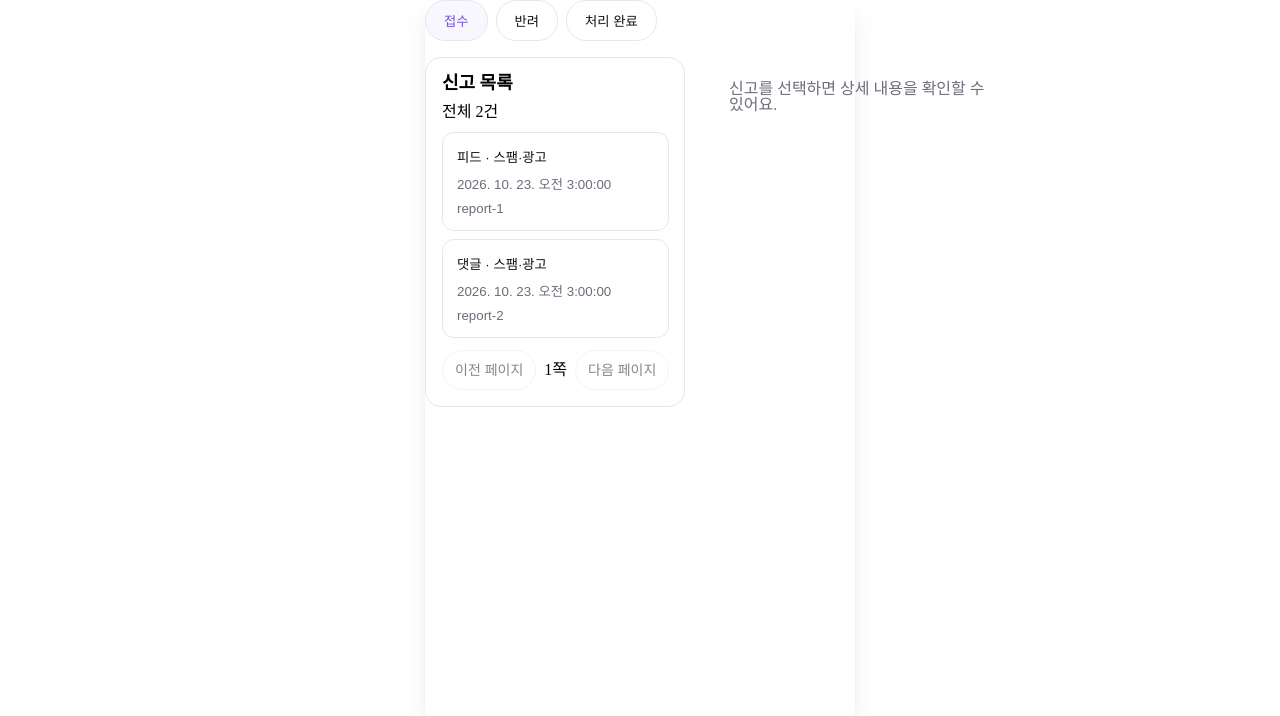
Test: 관리자 신고 심사 › 연결된 숨김 상태를 확인하고 사유와 함께 종결한 신고는 다시 변경하지 않는다
Click the button with aria-label "피드 신고 report-1": x=556, y=182 [442,132,669,231]
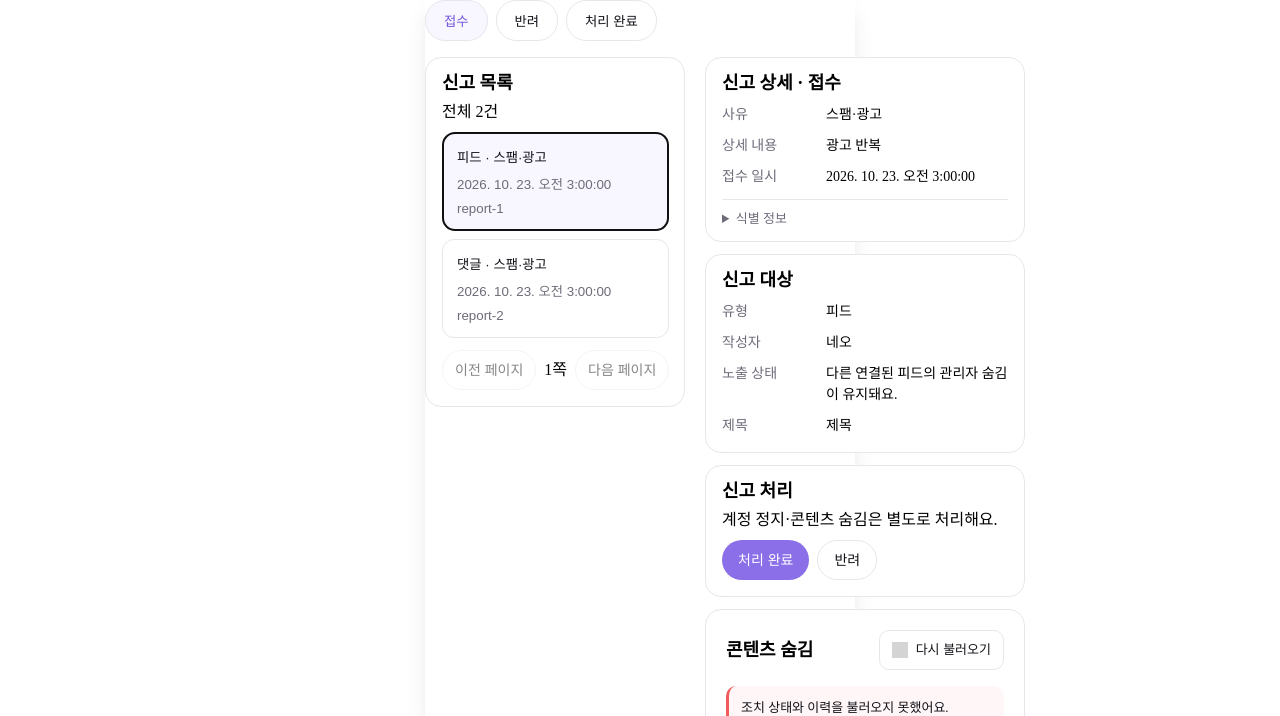
Click the button "처리 완료" below "계정 정지·콘텐츠 숨김은 별도로 처리해요.": x=766, y=560 [722,540,809,580]
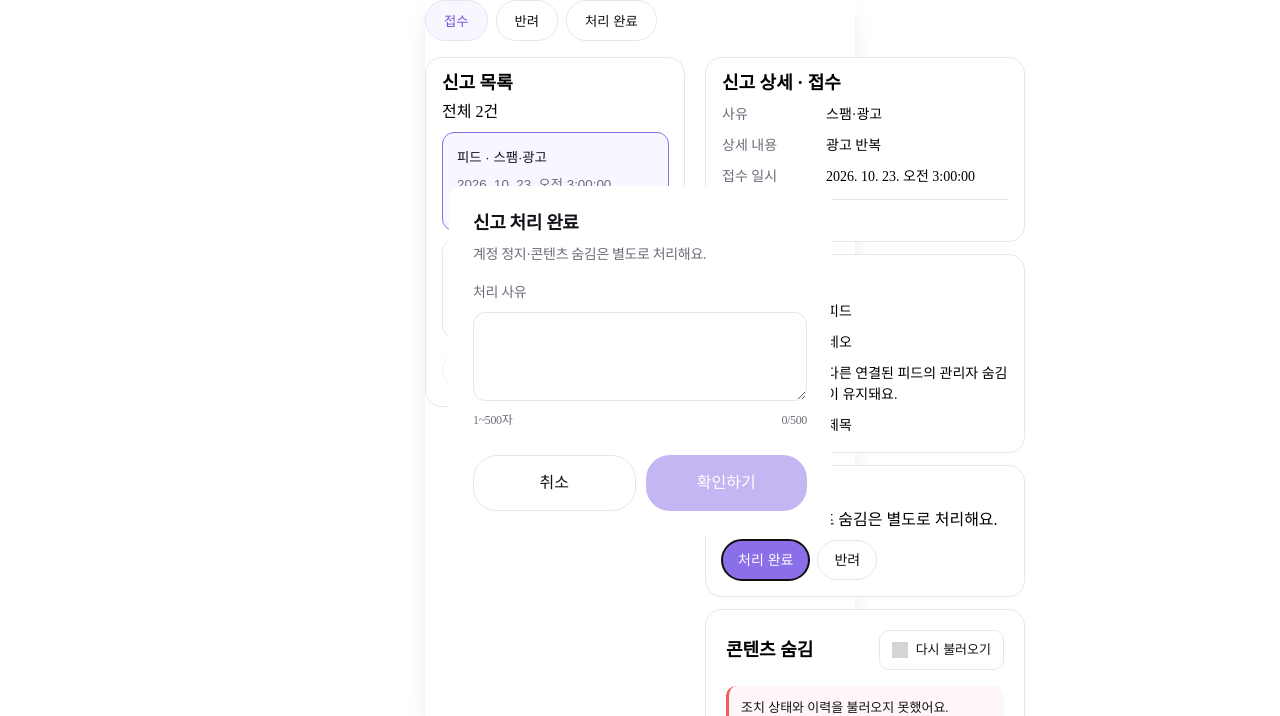
Result: the text "다른 연결된 피드의 관리자 숨김이 유지돼요." is shown at [826,363,1008,405]
Result: the button "확인하기" is disabled at [646,454,807,510]
In the text box: x=640, y=356 [473,312,807,400], type "정책 위반 확인"
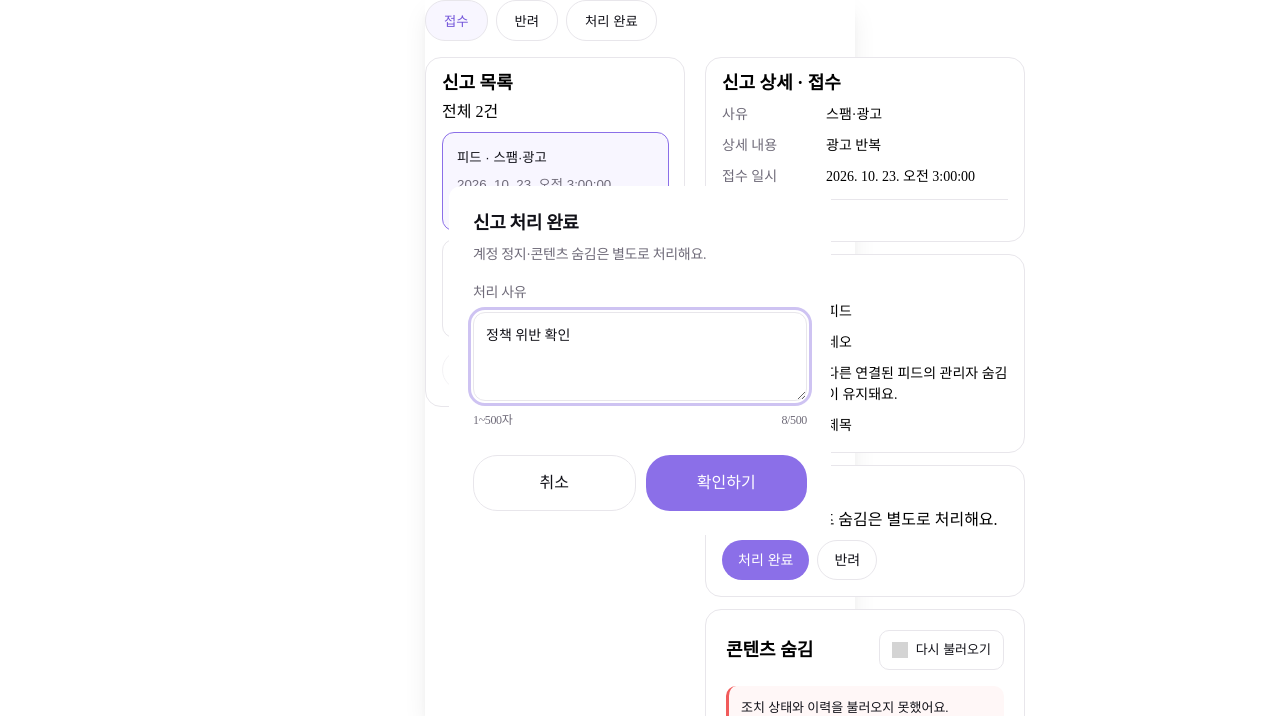
Click the button "확인하기": x=726, y=482 [646,454,807,510]
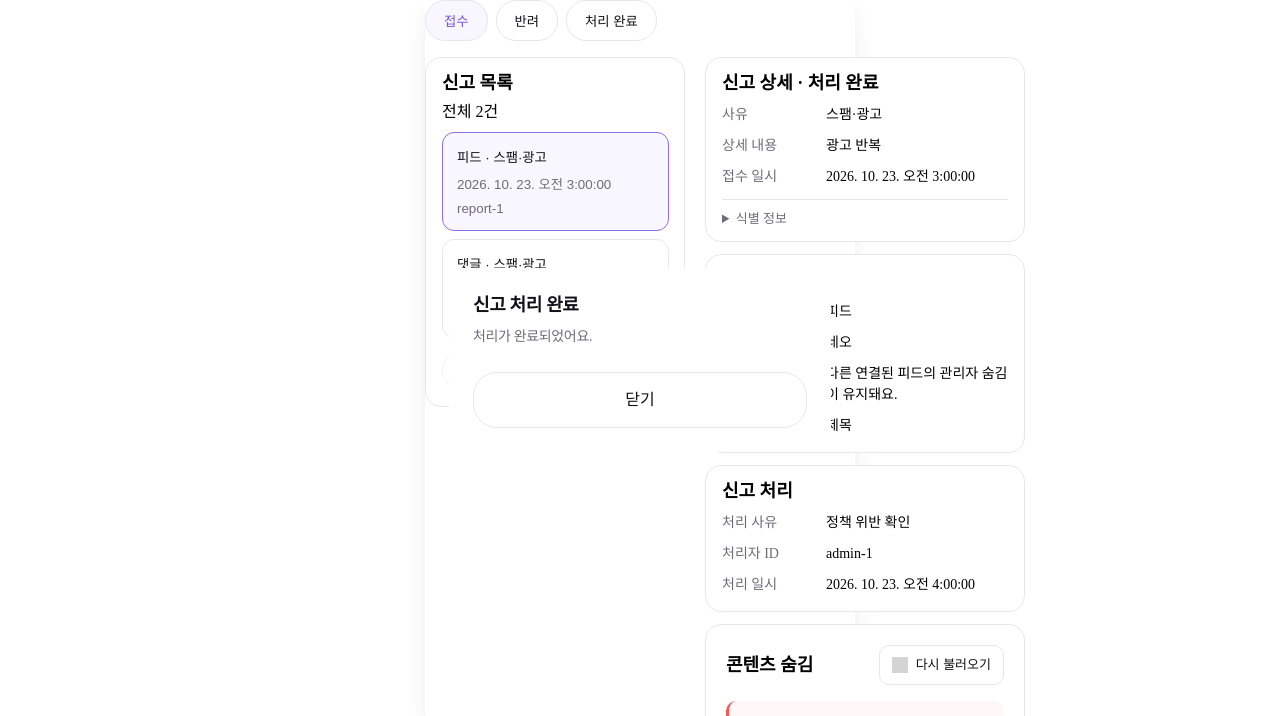
Result: the message "처리가 완료되었어요." is shown at [473,329,592,344]
Click the button "닫기": x=640, y=400 [473,372,807,428]
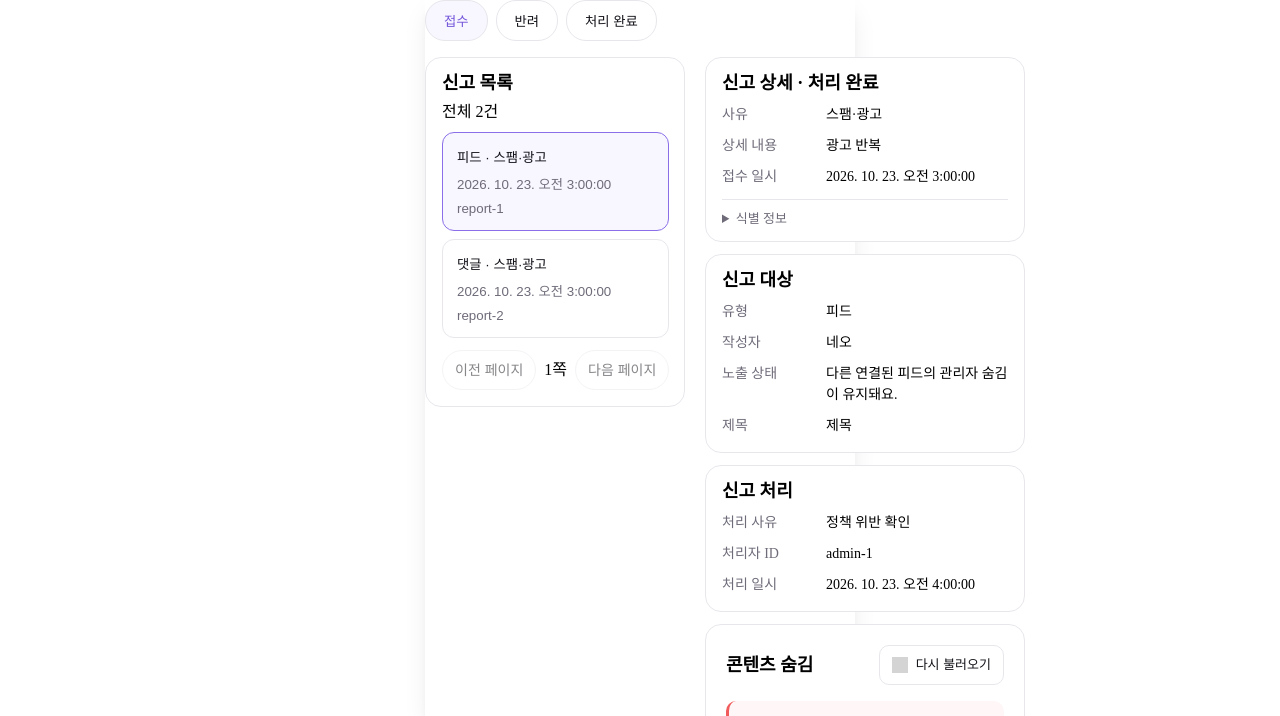
Result: the heading "신고 상세 · 처리 완료" is shown at [722,73,878,93]
Result: the text "정책 위반 확인" is shown at [826,515,910,530]
Click the button "반려": x=527, y=20 [496,0,558,41]
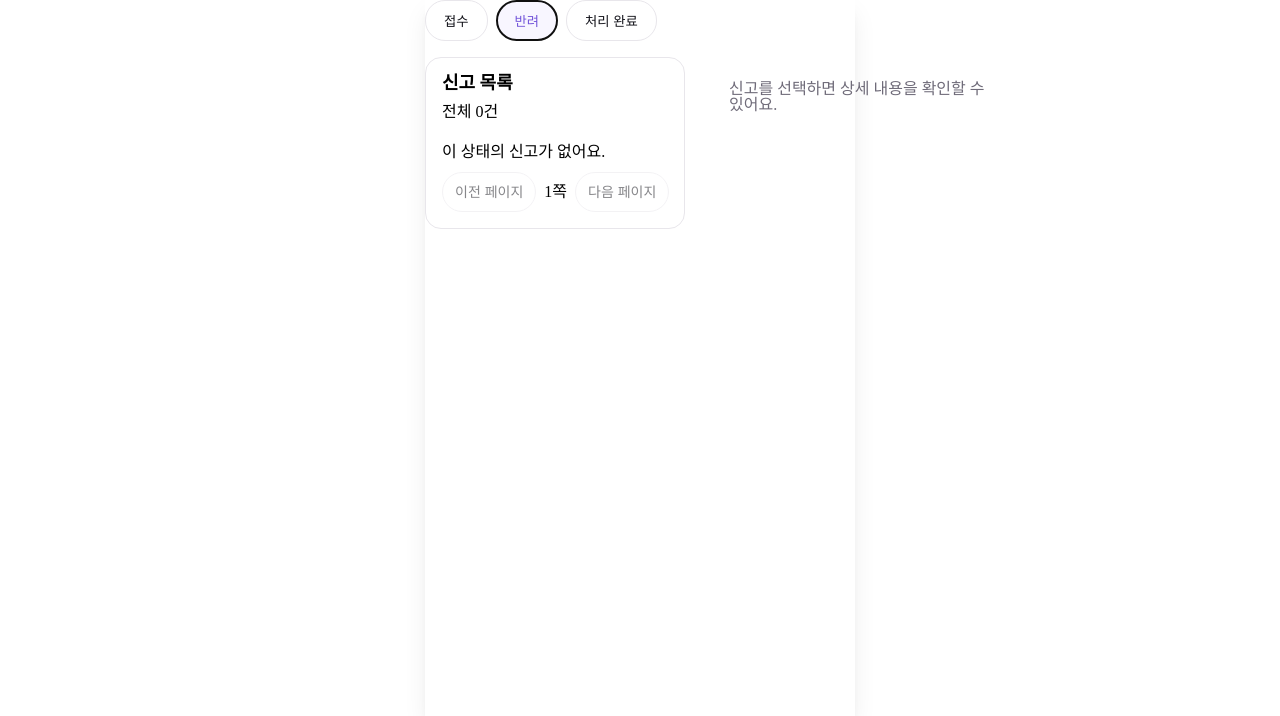
Result: the text "이 상태의 신고가 없어요." is shown at [442,143,605,160]
